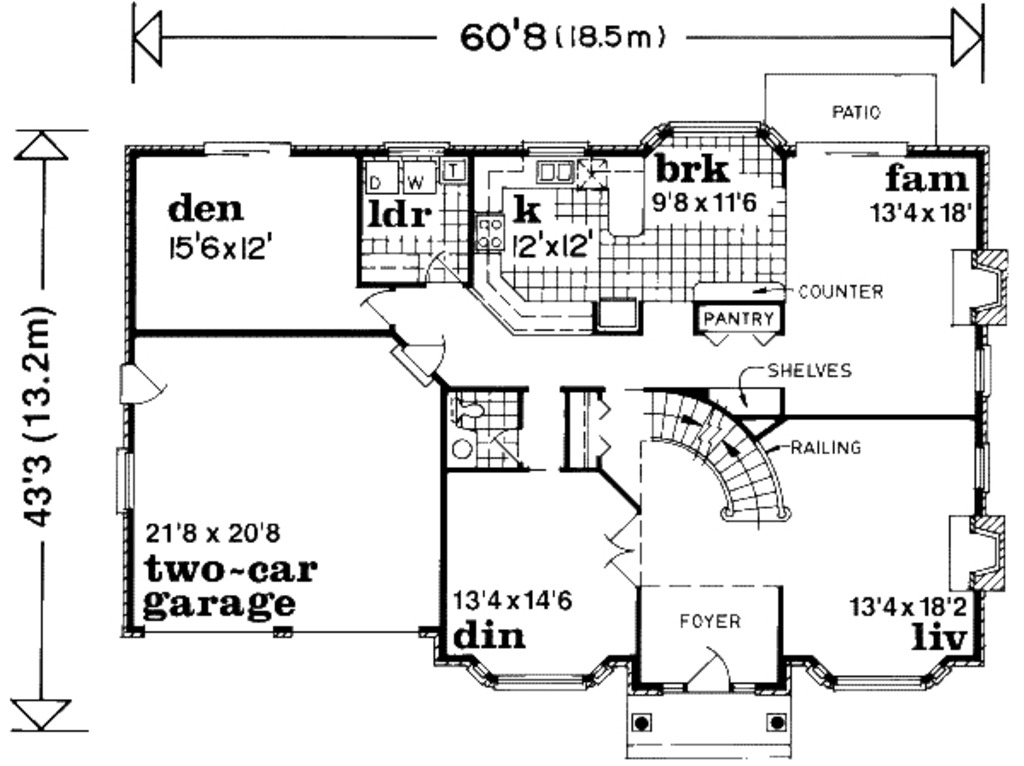door: (602, 512, 646, 586), (394, 332, 444, 387), (683, 646, 731, 696), (115, 360, 169, 404), (355, 286, 400, 330)
large_sink: (443, 388, 491, 425)
small_sink: (445, 422, 480, 473)
stairs: (646, 387, 794, 525)
twin_sink: (534, 157, 585, 191)
windows: (484, 669, 592, 695), (666, 119, 763, 142), (830, 673, 927, 695), (113, 446, 137, 515), (201, 141, 290, 158), (972, 443, 993, 505), (975, 341, 995, 399)
